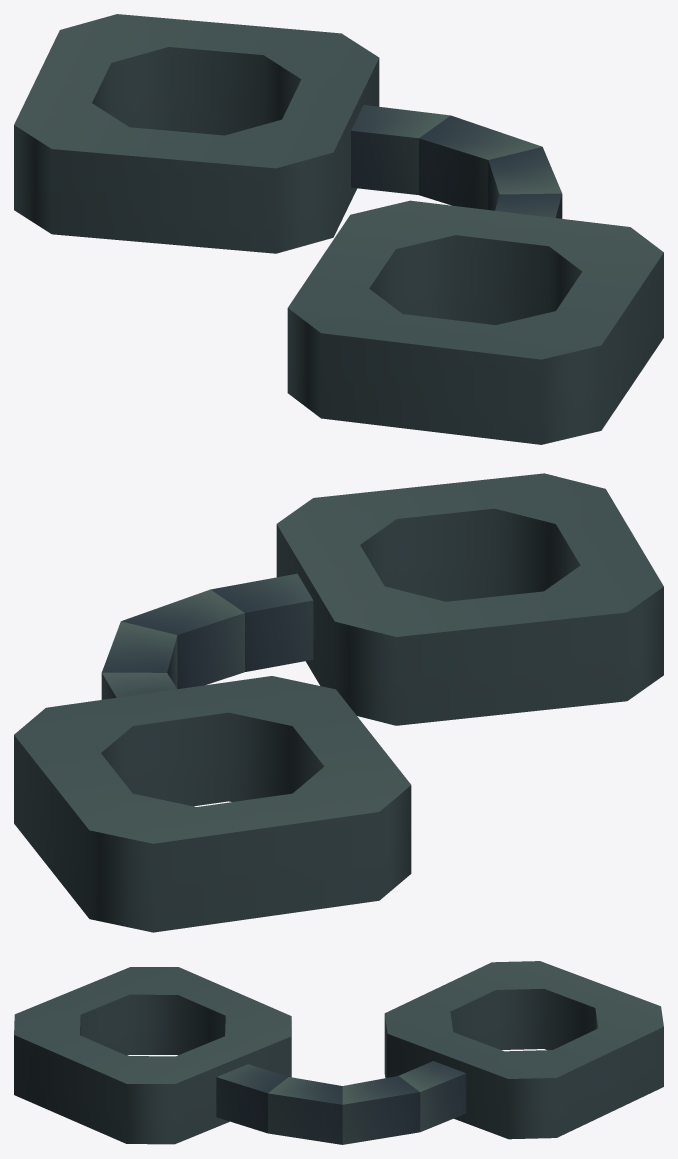
The model's file is handcuffs_bent.fbx.
The picture shows the model from 3 angles, top to bottom: view 1: azimuth 30°, elevation 25°; view 2: azimuth 150°, elevation 25°; view 3: azimuth 270°, elevation 25°; orthographic projection. The views are drawn at different scales.
Visible parts, largest first — view 1: handcuffs_bent; view 2: handcuffs_bent; view 3: handcuffs_bent.
Boxes of the visible parts, bbox=[...] form: handcuffs_bent: bbox=[14, 14, 663, 444]; handcuffs_bent: bbox=[14, 473, 663, 932]; handcuffs_bent: bbox=[14, 961, 663, 1144].
Size of the model in its own units: 32.7 by 6.86 by 67.15.
1 material, 1 textured.
